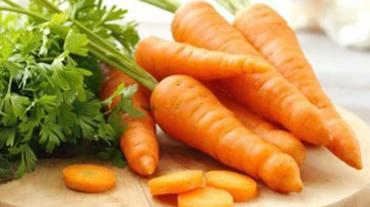carrot: (109, 0, 367, 195)
